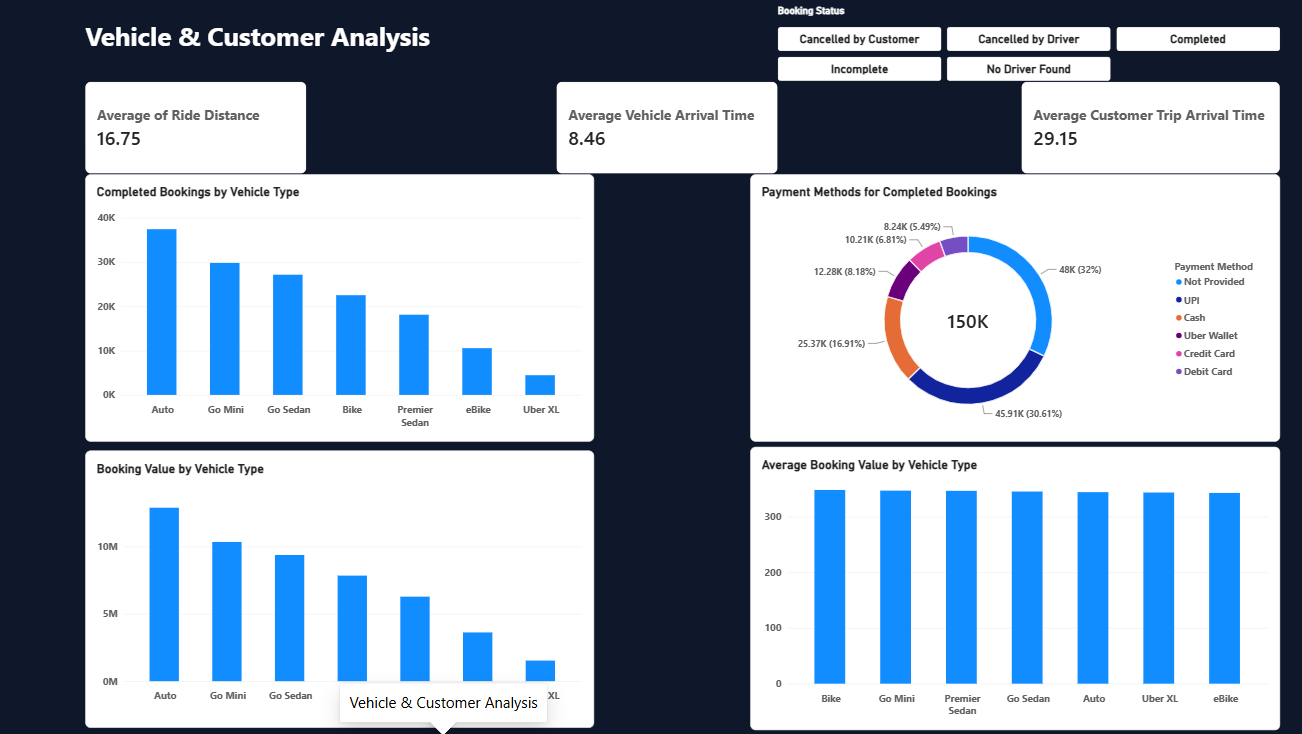

The dashboard page shown, as its layout file describes it:
{"tool":"powerbi","page":{"name":"Vehicle & Customer Analysis","canvas":[1920,1080],"ordinal":1},"visuals":[{"type":"clusteredColumnChart","title":"Completed Bookings by Vehicle Type","fields":{"Category":["ncr_ride_bookings_clean.Vehicle Type"],"Y":["CountNonNull(ncr_ride_bookings_clean.Booking ID)"]},"box":[139.3,262.4,736.5,387.3],"z":0},{"type":"advancedSlicerVisual","fields":{"Values":["ncr_ride_bookings_clean.Booking Status"]},"box":[1141.9,16.3,727.5,112.2],"z":1000},{"type":"clusteredColumnChart","title":"Booking Value by Vehicle Type","fields":{"Category":["ncr_ride_bookings_clean.Vehicle Type"],"Y":["Sum(ncr_ride_bookings_clean.Booking Value)"]},"box":[139.3,662.3,736.5,401.7],"z":2000},{"type":"donutChart","title":"Payment Methods for Completed Bookings","fields":{"Category":["ncr_ride_bookings_clean.Payment Method"],"Y":["CountNonNull(ncr_ride_bookings_clean.Booking ID)"]},"box":[1102.1,262.4,767.3,387.3],"z":3000},{"type":"clusteredColumnChart","title":"Average Booking Value by Vehicle Type","fields":{"Category":["ncr_ride_bookings_clean.Vehicle Type"],"Y":["Avg(ncr_ride_bookings_clean.Booking Value)"]},"box":[1102.1,656.9,767.3,410.8],"z":4000},{"type":"cardVisual","title":"Average Ride Distance","fields":{"Data":["Avg(ncr_ride_bookings_clean.Ride Distance)"]},"box":[139.3,128.5,320.3,133.9],"z":5000},{"type":"cardVisual","title":"Average Vehicle Arrival Time","fields":{"Data":["Avg(ncr_ride_bookings_clean.Avg VTAT)"]},"box":[821.6,128.5,320.3,133.9],"z":6000},{"type":"cardVisual","title":"Average Vehicle Arrival Time","fields":{"Data":["Avg(ncr_ride_bookings_clean.Avg CTAT)"]},"box":[1494.8,128.5,374.6,133.9],"z":7000},{"type":"textbox","box":[139.3,0,736.5,128.5],"z":8000}]}

Visuals, with their boxes in screenshot pixels (x1, y1, x2, y2), scaled from the page's 1920x1080 canvas onto the 1302x734 screenshot:
"Completed Bookings by Vehicle Type" clusteredColumnChart: 94:178:594:442
advancedSlicerVisual - ncr_ride_bookings_clean.Booking Status: 774:11:1268:87
"Booking Value by Vehicle Type" clusteredColumnChart: 94:450:594:723
"Payment Methods for Completed Bookings" donutChart: 747:178:1268:442
"Average Booking Value by Vehicle Type" clusteredColumnChart: 747:446:1268:726
"Average Ride Distance" cardVisual: 94:87:312:178
"Average Vehicle Arrival Time" cardVisual: 557:87:774:178
"Average Vehicle Arrival Time" cardVisual: 1014:87:1268:178
textbox: 94:0:594:87
